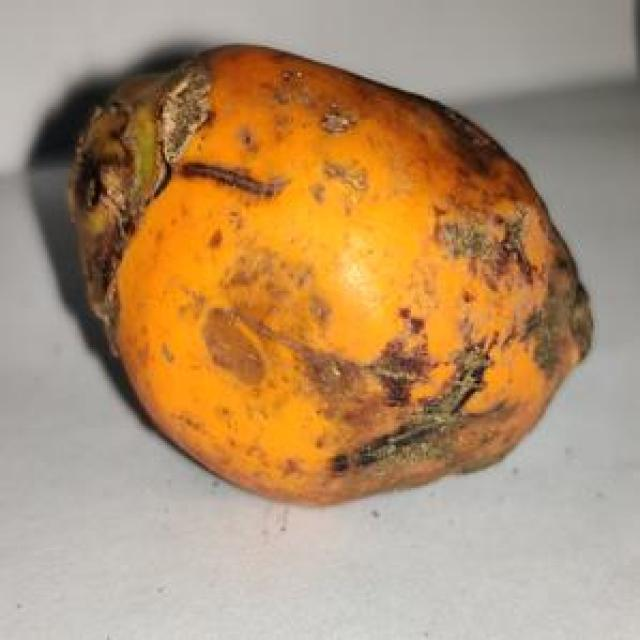damaged: (62, 45, 593, 512)
